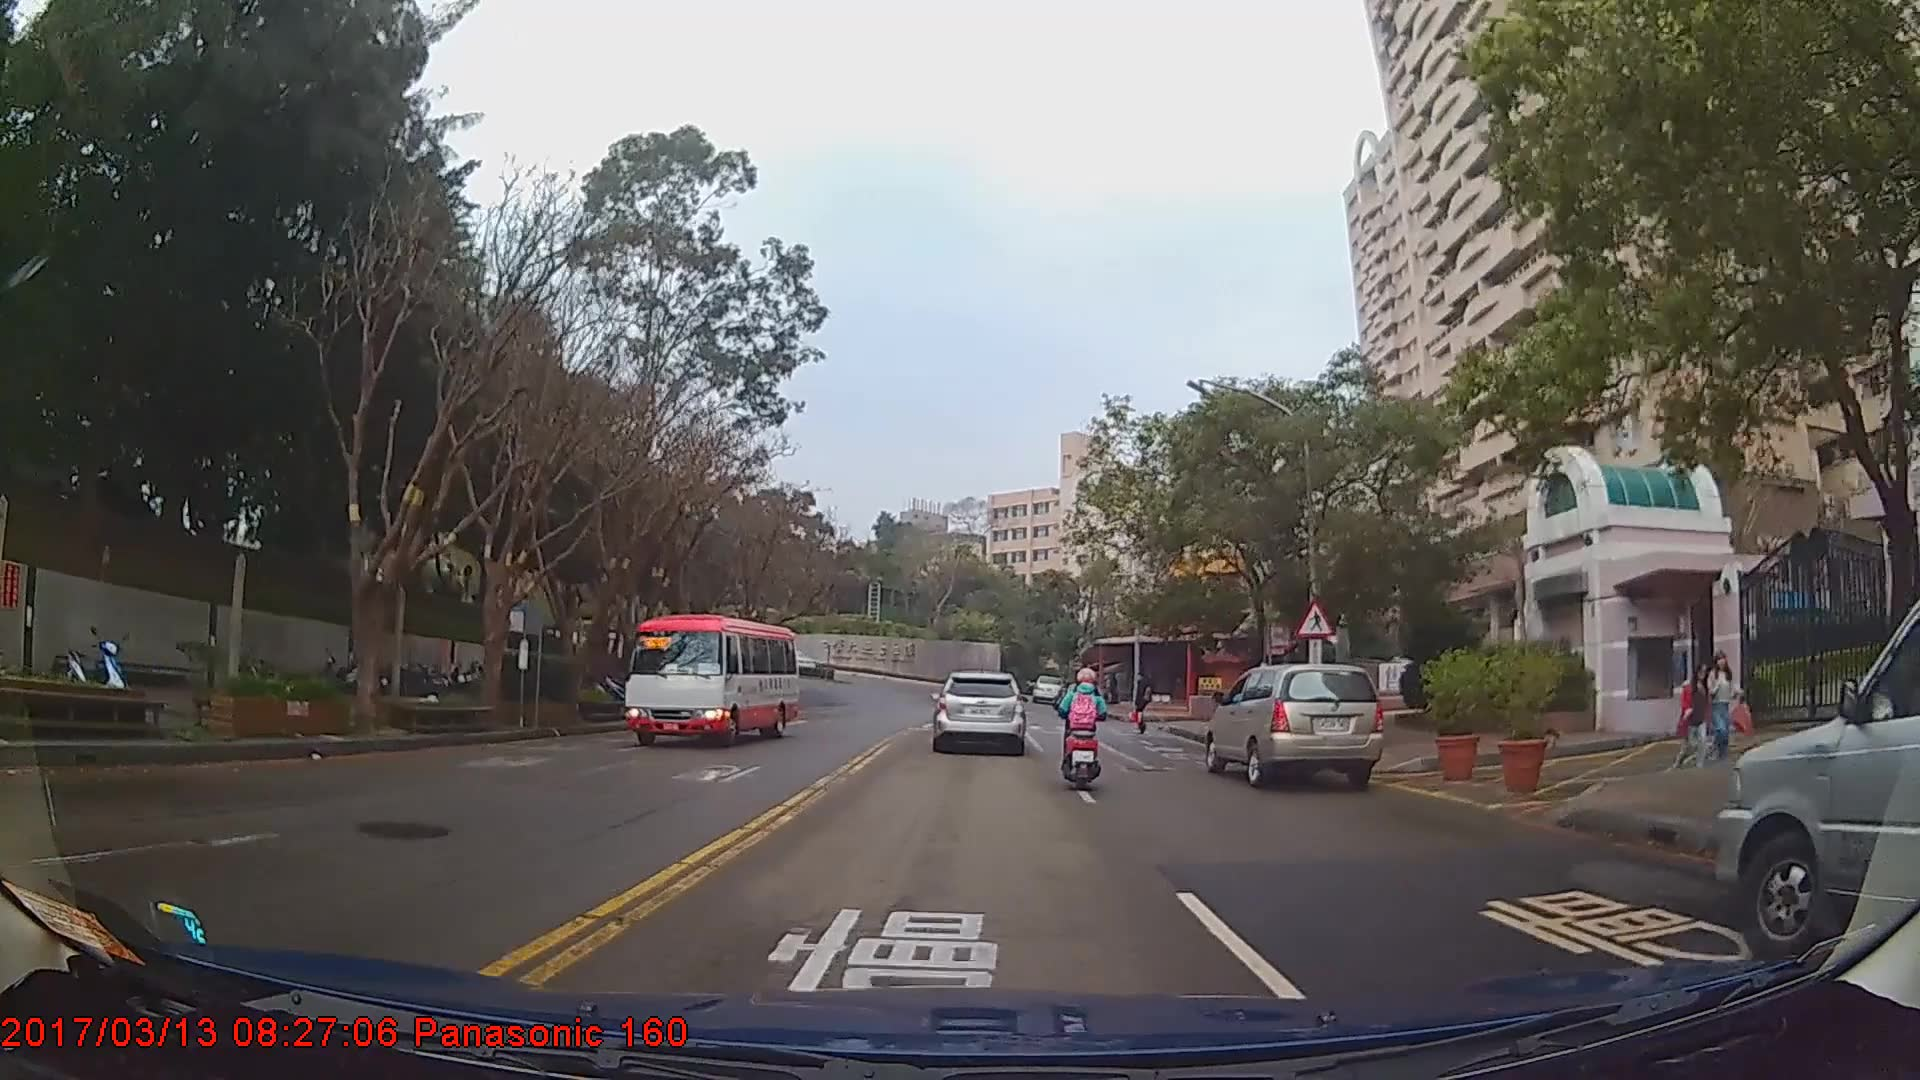pedestrian: (1674, 647, 1721, 776), (1705, 639, 1751, 764), (1130, 670, 1156, 739)
rider: (1057, 664, 1112, 794)
vehicle: (1717, 595, 1920, 969), (623, 613, 800, 747), (1203, 662, 1381, 789), (929, 670, 1026, 756), (1030, 674, 1063, 702)
